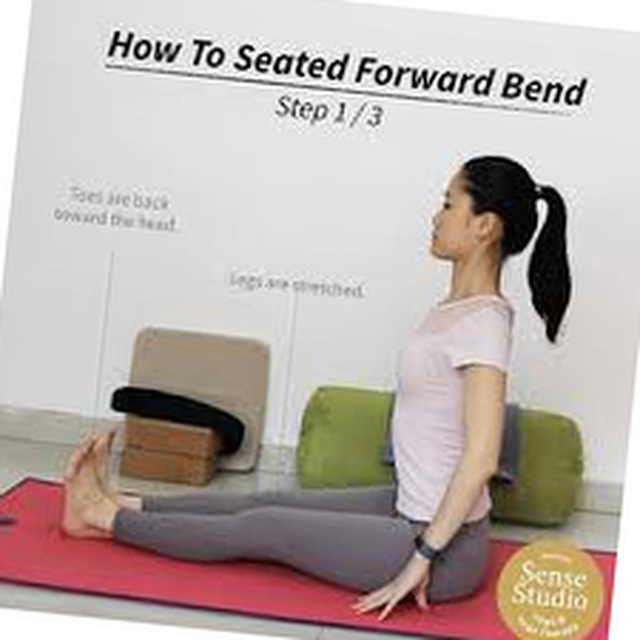Staff_Pose: (60, 155, 573, 625)
